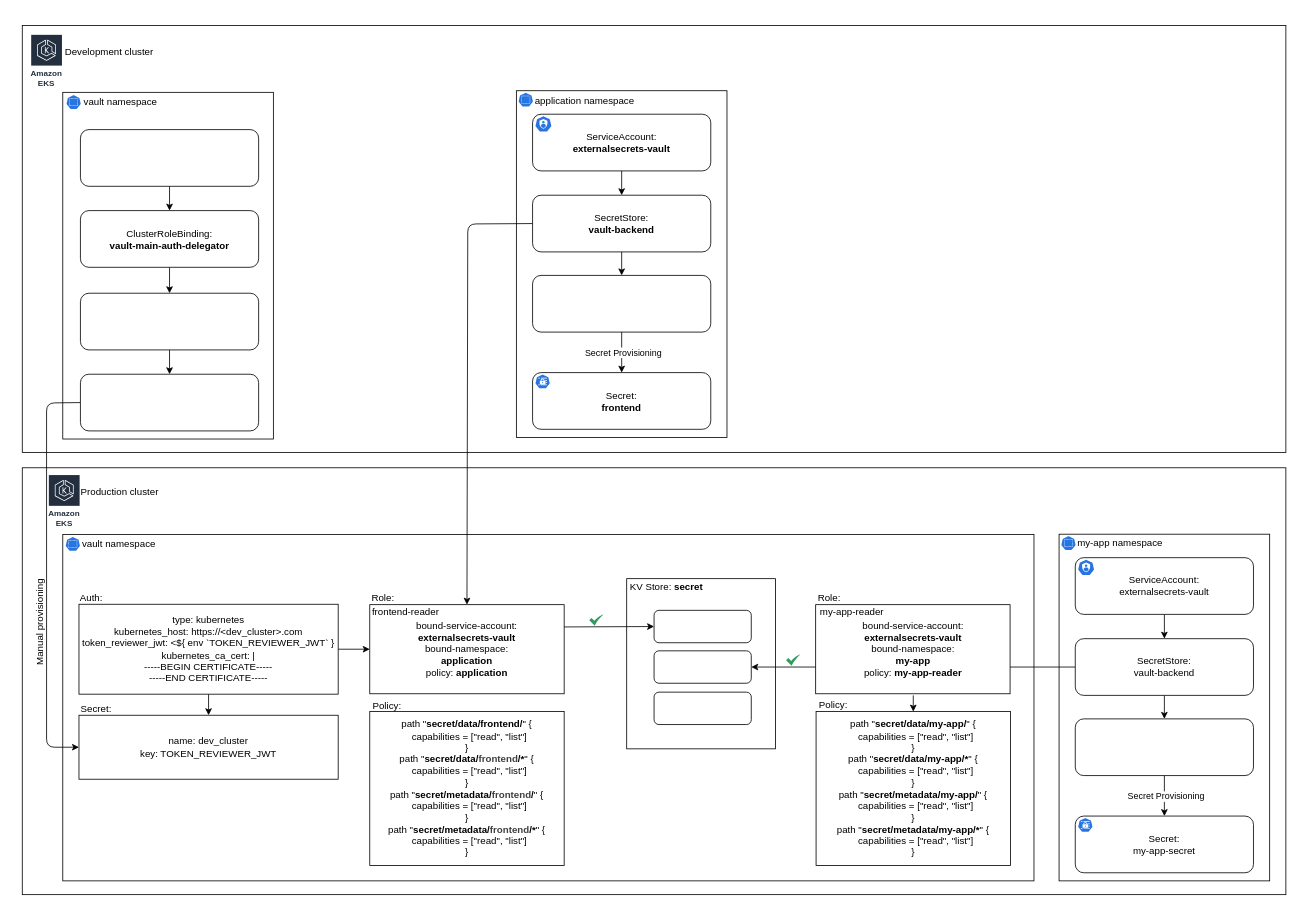
Some shapes in this 1307 by 919 pixel diagram are drawn without their labels. The shapes that lost their labels are listed below. From the top down, each one's centre as x and y in pixels, then its label:
At [169,157]: "ClusterRole: vault-auth-delegator".
At [169,321]: "ServiceAccount: vault".
At [621,303]: "ExternalSecret: vault-frontend key: secret/data/frontend".
At [169,402]: "Secret: vault-reader-token".
At [702,626]: "secret/frontend".
At [702,666]: "secret/my-app".
At [702,708]: "secret/krci".
At [1163,747]: "ExternalSecret: vault-my-app key: secret/data/my-app".
